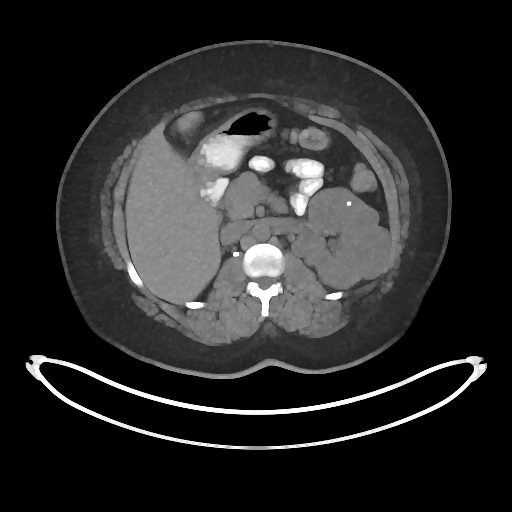Lesion: (342, 218, 392, 280)
